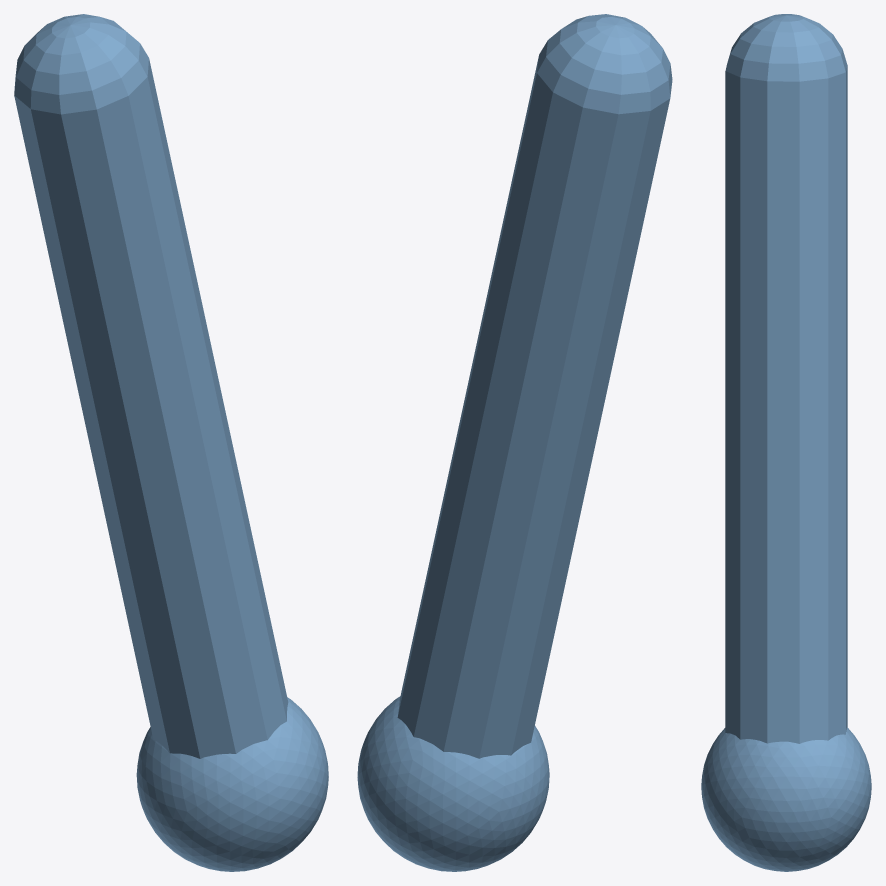
3 renders of one model, left to right at view 1: azimuth 30°, elevation 25°; view 2: azimuth 150°, elevation 25°; view 3: azimuth 270°, elevation 25°, orthographic. The views are drawn at different scales.
Parts seen in each view (by area): view 1: world; view 2: world; view 3: world.
Part boxes in pixels (left/top/right/bottom): world: left=14, top=14, right=328, bottom=871; world: left=357, top=14, right=672, bottom=871; world: left=701, top=14, right=871, bottom=871.
Size of the model in its own units: 0.1617 by 0.4639 by 0.092.
